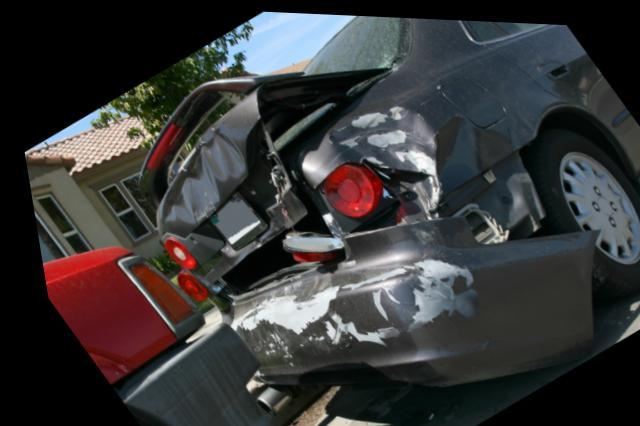dent: (326, 102, 508, 208), (154, 124, 244, 232)
dislocated part: (217, 145, 587, 390), (130, 66, 383, 297)
scratch: (222, 246, 475, 349)
